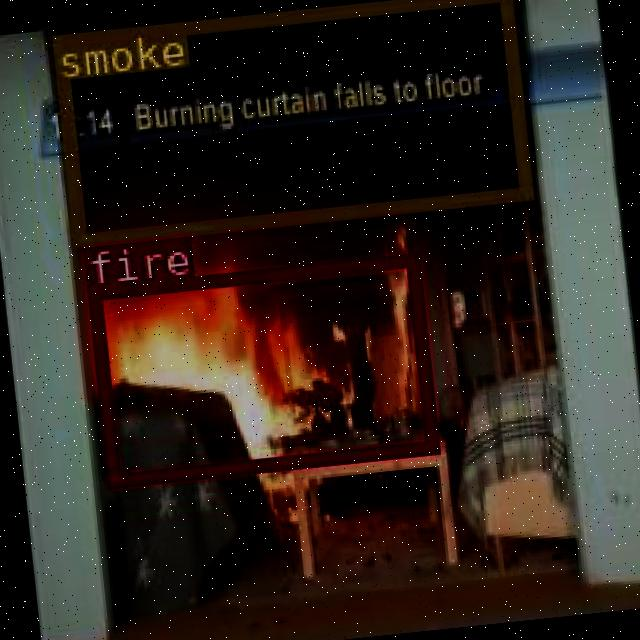fire: (86, 251, 436, 485)
smoke: (48, 0, 529, 245)
